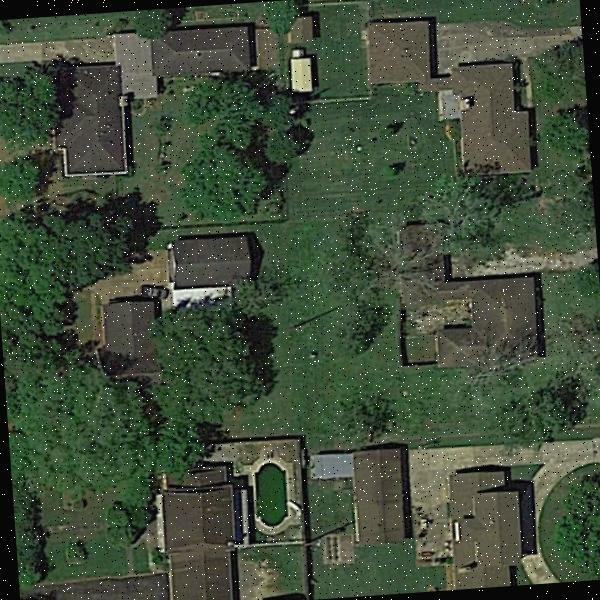Buildings: (366, 10, 534, 183), (408, 240, 546, 374), (160, 468, 248, 600), (53, 64, 133, 177), (451, 470, 528, 584), (174, 222, 259, 287), (348, 451, 410, 538), (155, 30, 246, 74), (113, 307, 156, 366), (287, 16, 319, 52), (290, 58, 312, 93)
